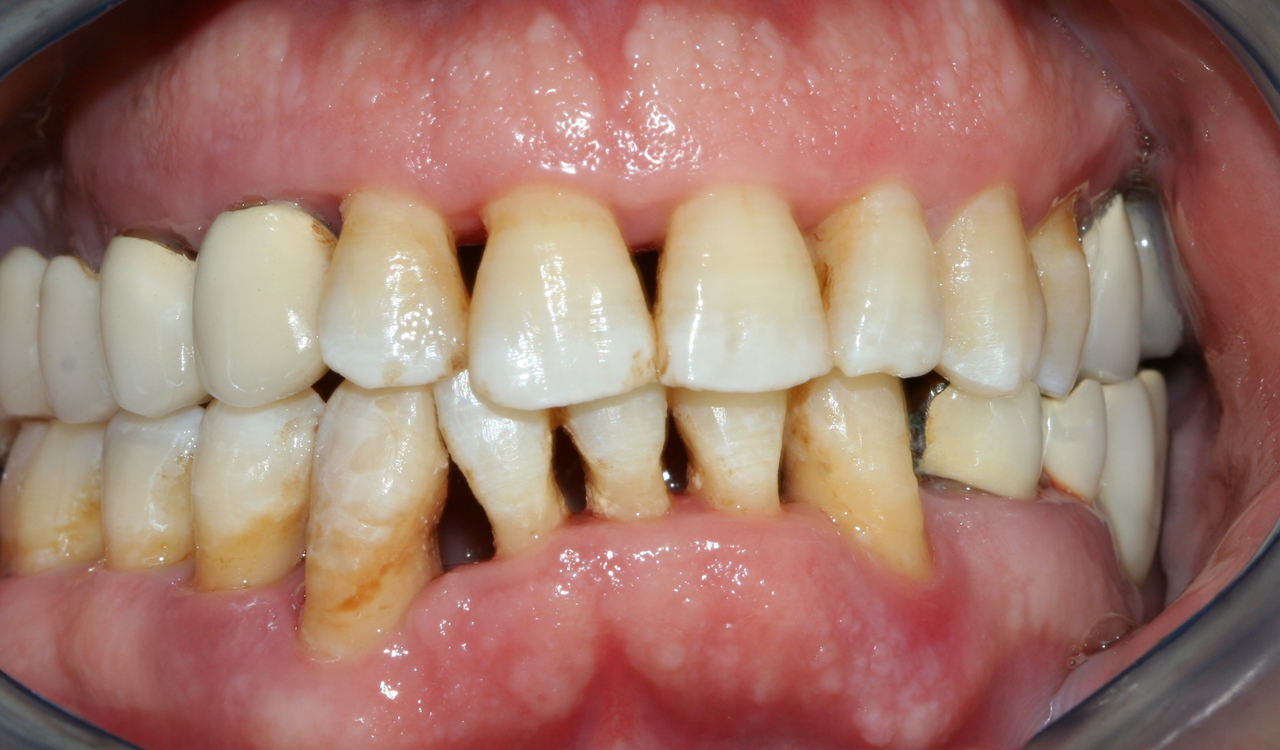LL1BC_decay: (915, 382, 1047, 504)
LL1M_healthy: (1106, 385, 1167, 578)
LL2BC_decay: (1044, 392, 1107, 513)
LLCI_decay: (561, 393, 676, 532)
LLC_decay: (791, 378, 939, 599)
LLLI_decay: (674, 387, 795, 535)
LR1BC_decay: (183, 406, 314, 603)
LR1M_healthy: (1, 433, 104, 585)
LR2BC_decay: (95, 413, 196, 578)
LRCI_decay: (440, 389, 577, 577)
LRC_decay: (302, 387, 447, 636)
UL1BC_healthy: (1035, 199, 1094, 395)
UL2BC_healthy: (1085, 195, 1150, 385)
ULCI_healthy: (658, 191, 833, 392)
ULC_healthy: (941, 180, 1048, 403)
ULLI_healthy: (821, 185, 954, 384)
UR1BC_healthy: (100, 245, 203, 419)
UR1M_healthy: (1, 248, 37, 426)
UR2BC_healthy: (35, 259, 107, 429)
URCI_healthy: (465, 187, 665, 413)
URC_healthy: (202, 217, 328, 402)
URLI_healthy: (325, 191, 466, 388)
